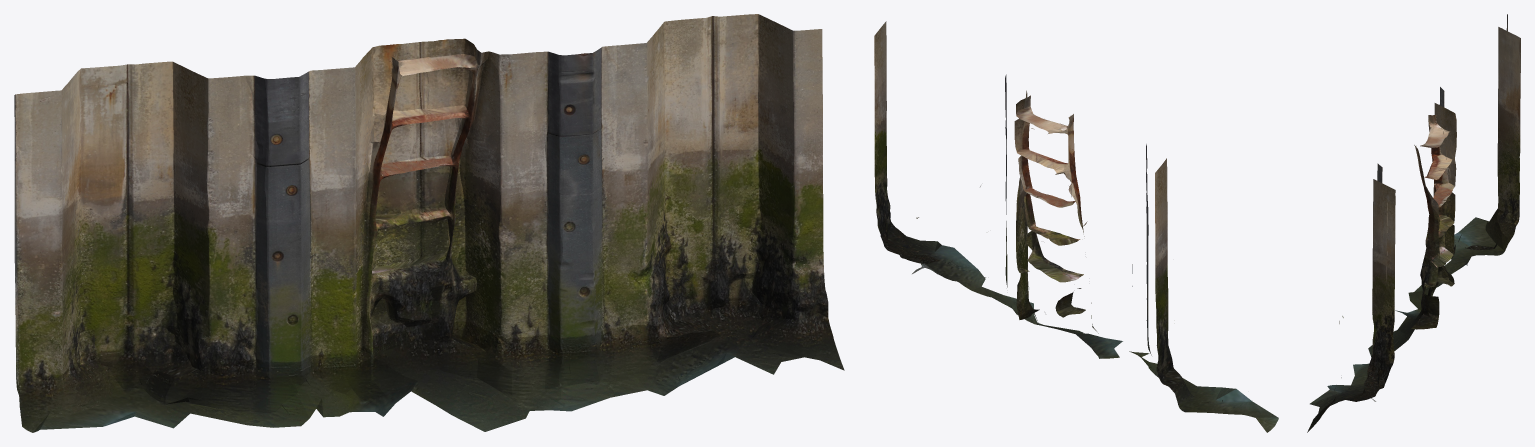
The picture shows the model from 3 angles, left to right: view 1: azimuth 30°, elevation 25°; view 2: azimuth 150°, elevation 25°; view 3: azimuth 270°, elevation 25°; orthographic projection. The views are drawn at different scales.
Size of the model in its own units: 4.18 by 2.05 by 1.79.
Materials: 2 (2 with a texture image).
